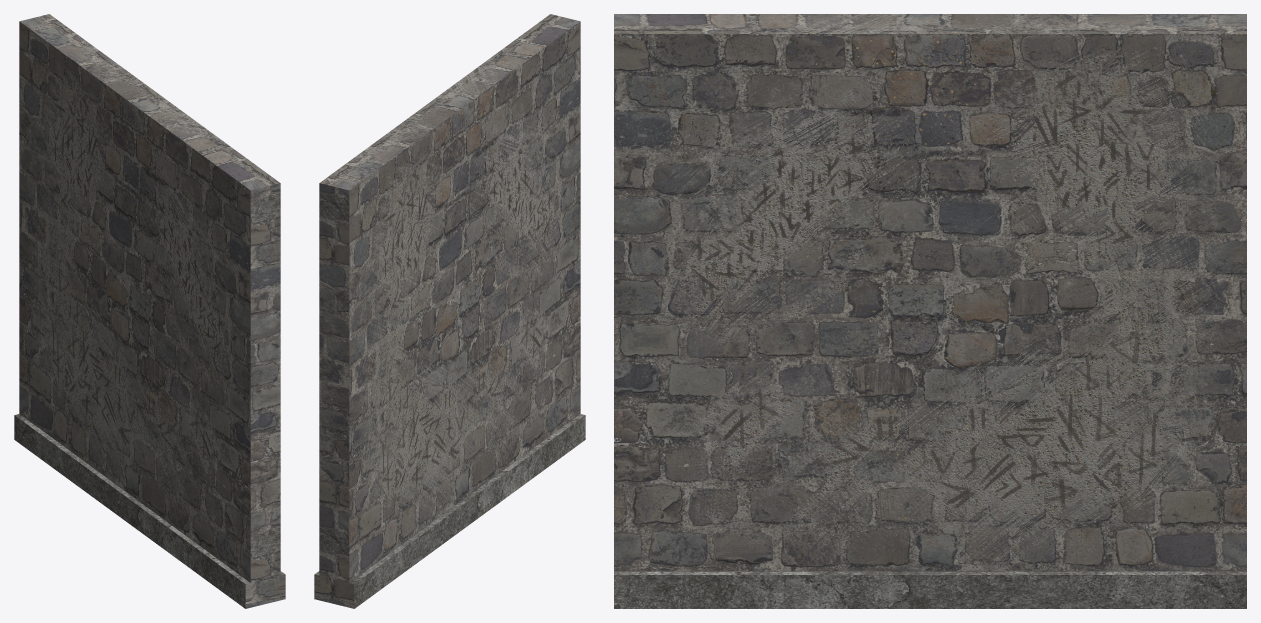
The model's file is Wall_2.fbx.
3 renders of one model, left to right at view 1: azimuth 30°, elevation 25°; view 2: azimuth 150°, elevation 25°; view 3: azimuth 270°, elevation 25°, orthographic. The views are drawn at different scales.
Visible parts, largest first — view 1: wall.002; view 2: wall.002; view 3: wall.002.
Boxes of the visible parts, box(x1,y1,x2,y2) form: wall.002: box(14, 14, 285, 608); wall.002: box(314, 14, 585, 608); wall.002: box(614, 14, 1246, 608).
Size of the model in its own units: 40 by 399 by 400.
Materials: 1 (1 with a texture image).
